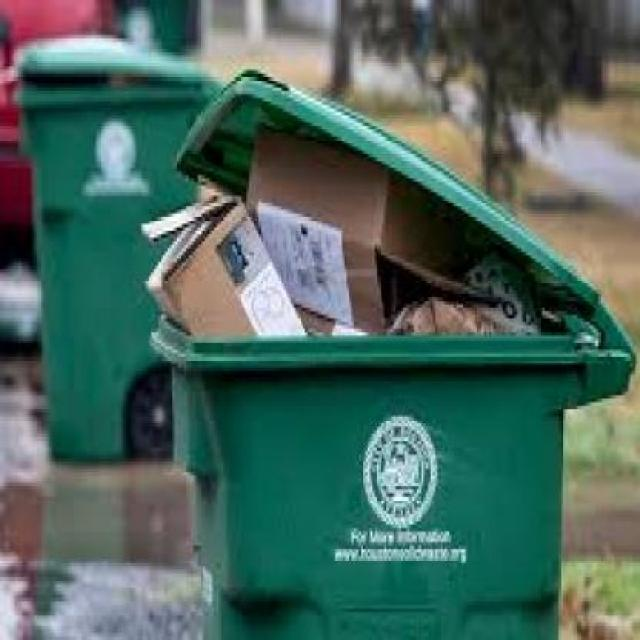garbage: (154, 116, 522, 336)
